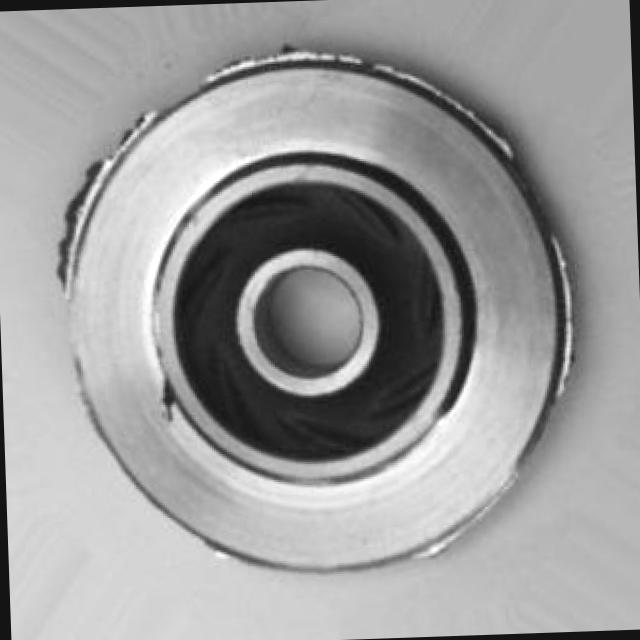Defect: (152, 372, 181, 418)
